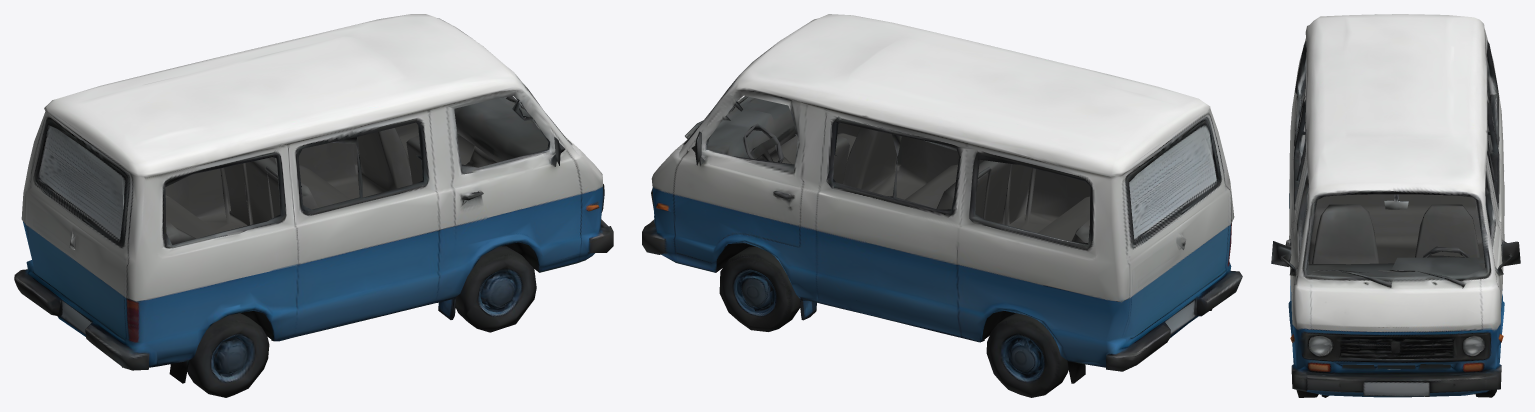
3 views of the same model, side by side, from view 1: azimuth 30°, elevation 25°; view 2: azimuth 150°, elevation 25°; view 3: azimuth 270°, elevation 25° (orthographic). The views are drawn at different scales.
Visible parts, largest first — view 1: tripo_node_28093e96-b897-4eed-86f3-2ba3a68f5a1a; view 2: tripo_node_28093e96-b897-4eed-86f3-2ba3a68f5a1a; view 3: tripo_node_28093e96-b897-4eed-86f3-2ba3a68f5a1a.
Part boxes in pixels (left/top/right/bottom): tripo_node_28093e96-b897-4eed-86f3-2ba3a68f5a1a: left=14, top=14, right=613, bottom=397; tripo_node_28093e96-b897-4eed-86f3-2ba3a68f5a1a: left=642, top=14, right=1242, bottom=397; tripo_node_28093e96-b897-4eed-86f3-2ba3a68f5a1a: left=1271, top=14, right=1520, bottom=397.
Bounding box in the file's own units: 4.13 × 2 × 1.97.
1 material, 1 textured.
